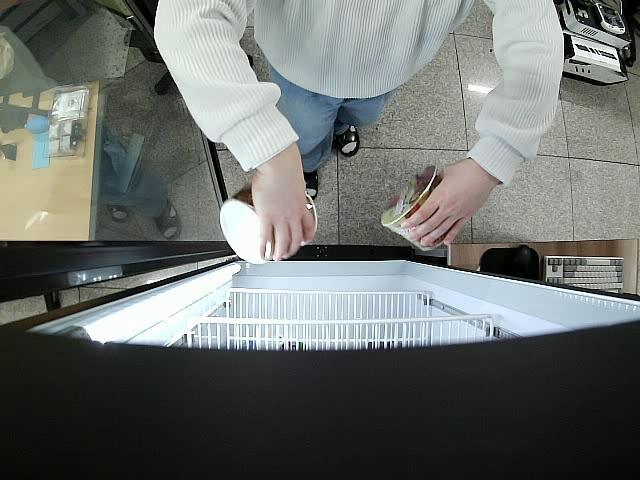03_chapagetti_L: (222, 173, 320, 263), (381, 168, 454, 253)
